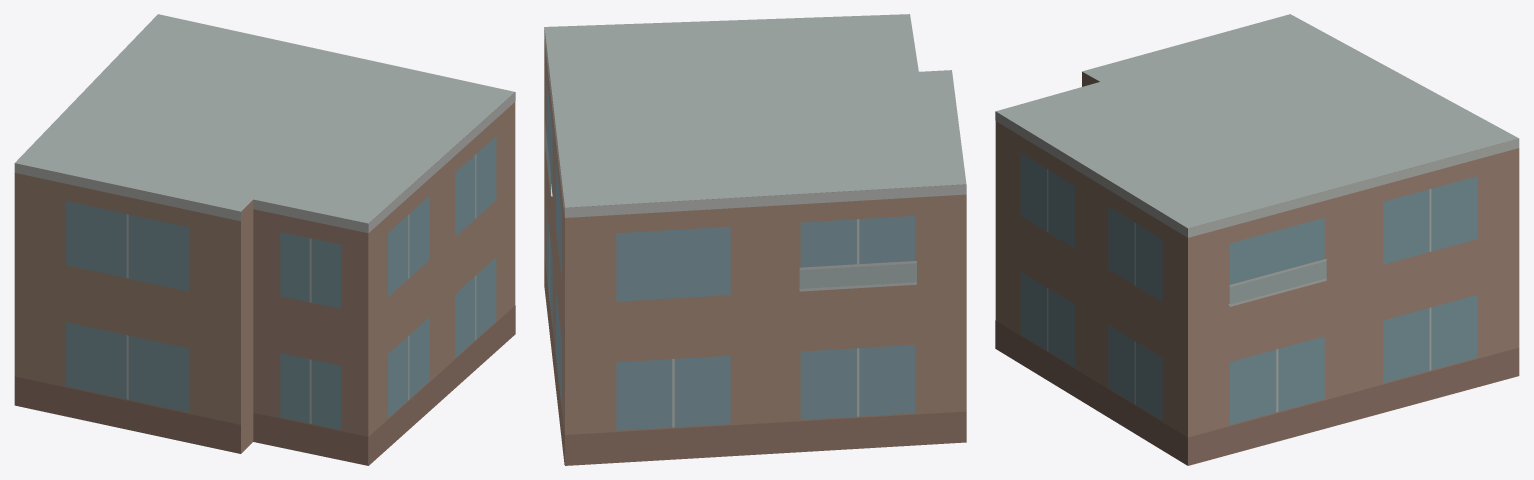
File: survey-upis-32604420.glb
3 renders of one model, left to right at view 1: azimuth 30°, elevation 25°; view 2: azimuth 150°, elevation 25°; view 3: azimuth 270°, elevation 25°, orthographic. The views are drawn at different scales.
Visible parts, largest first — view 1: survey-upis-32604420.tmp; view 2: survey-upis-32604420.tmp; view 3: survey-upis-32604420.tmp.
Part boxes in pixels (x1,y1,x2,y2): survey-upis-32604420.tmp: (14, 14, 515, 465); survey-upis-32604420.tmp: (544, 14, 966, 465); survey-upis-32604420.tmp: (995, 14, 1519, 465).
Bounding box in the file's own units: 11.82 × 6.1 × 12.2.
